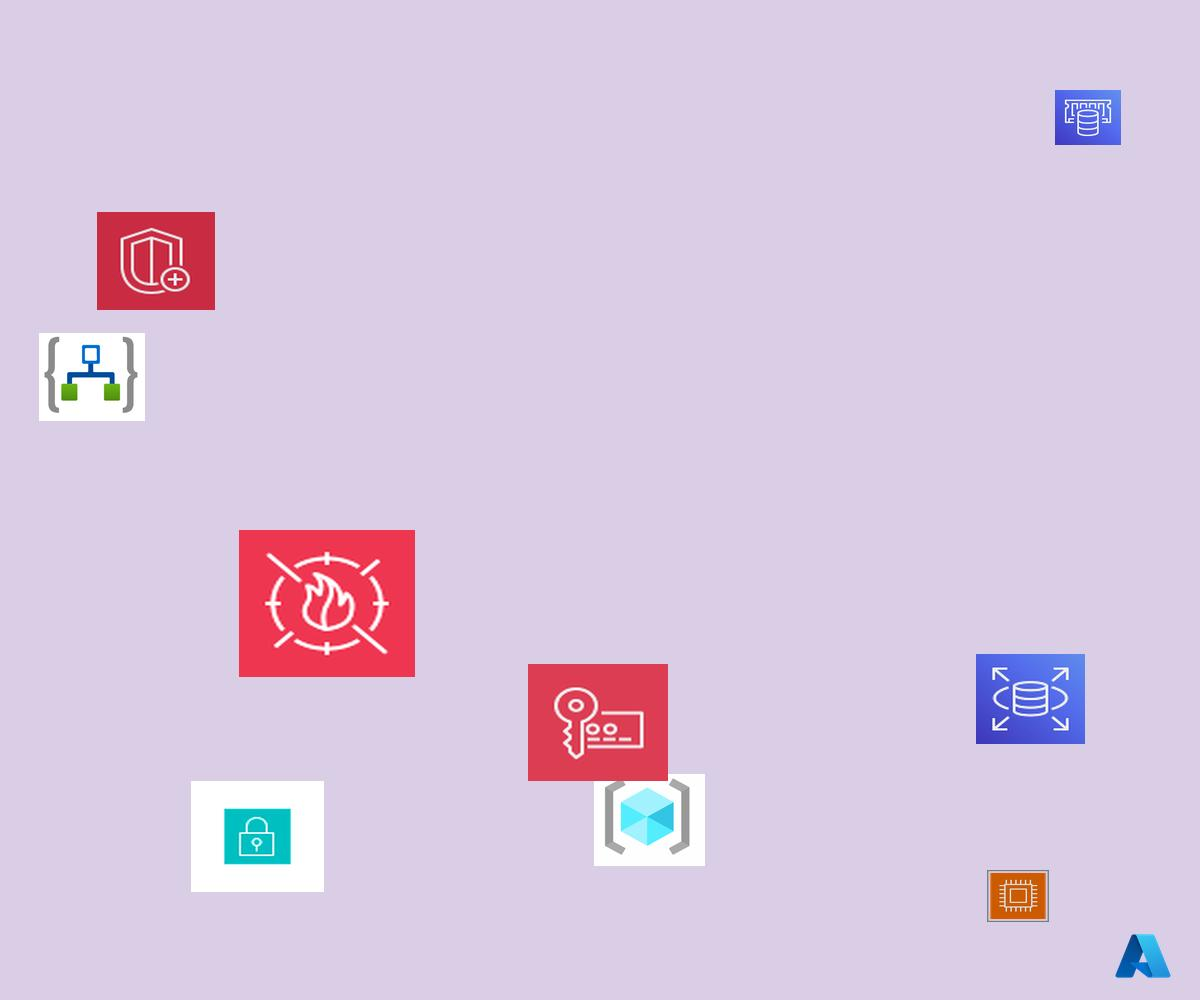AWS-Category_Compute: (987, 870, 1049, 922)
AWS-ElastiCache: (1055, 90, 1121, 145)
AWS-Key-Management-Service: (528, 664, 668, 781)
AWS-Private-subnet: (191, 781, 324, 892)
AWS-RDS: (976, 654, 1085, 744)
AWS-Shield: (97, 212, 215, 310)
AWS-WAF: (239, 530, 415, 677)
Azure_integration-204-Logic-Apps: (39, 333, 145, 421)
Azure_resource_group: (594, 774, 705, 866)
Azure_services: (1113, 931, 1173, 981)
